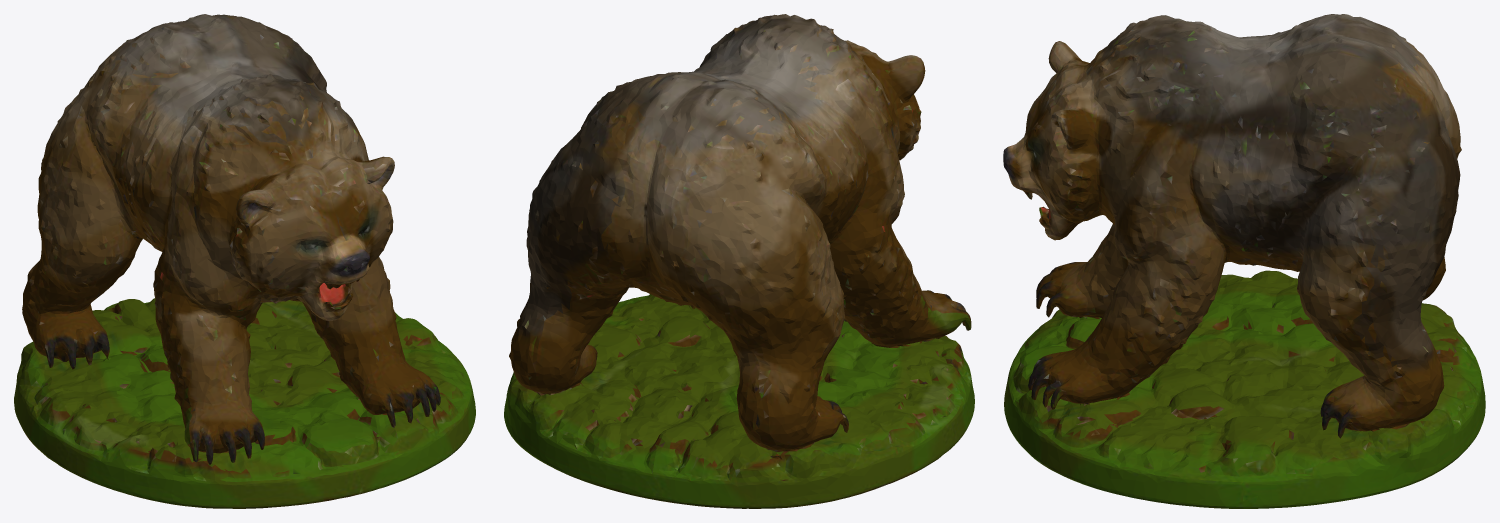
File: urso.glb
3 views of the same model, side by side, from view 1: azimuth 30°, elevation 25°; view 2: azimuth 150°, elevation 25°; view 3: azimuth 270°, elevation 25° (orthographic). The views are drawn at different scales.
Visible parts, largest first — view 1: tmpnlwr28io.ply; view 2: tmpnlwr28io.ply; view 3: tmpnlwr28io.ply.
Boxes of the visible parts, x1=… form: tmpnlwr28io.ply: x1=14, y1=14, x2=475, y2=508; tmpnlwr28io.ply: x1=504, y1=14, x2=974, y2=508; tmpnlwr28io.ply: x1=1003, y1=14, x2=1485, y2=508.
Bounding box in the file's own units: 1.96 × 1.7 × 1.96.
1 material, 1 textured.
